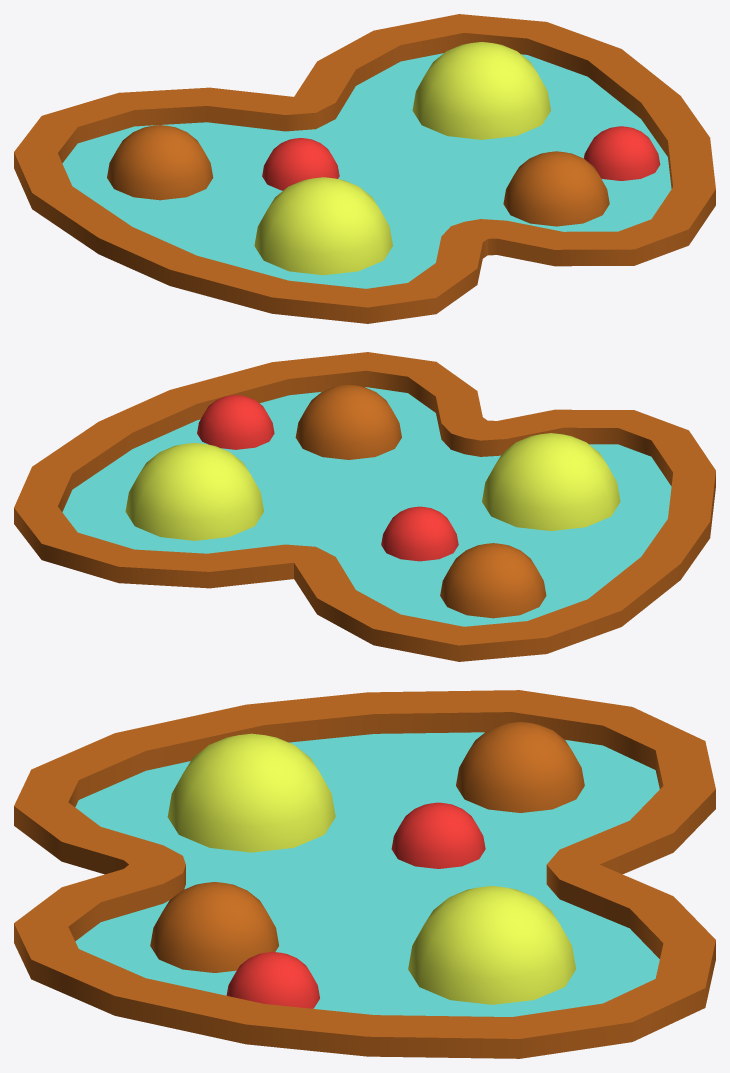
Rendered from cell_division.fbx.
The picture shows the model from 3 angles, top to bottom: view 1: azimuth 30°, elevation 25°; view 2: azimuth 150°, elevation 25°; view 3: azimuth 270°, elevation 25°; orthographic projection. The views are drawn at different scales.
Parts seen in each view (by area): view 1: cell_division; view 2: cell_division; view 3: cell_division.
Part boxes in pixels (box(x1,y1,x2,y2)): cell_division: box(14, 14, 715, 323); cell_division: box(14, 352, 715, 661); cell_division: box(14, 690, 715, 1058).
Size of the model in its own units: 62.37 by 6.35 by 53.04.
